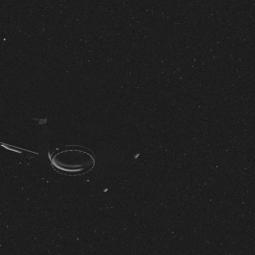proba_3_csc: (0, 108, 149, 202)
